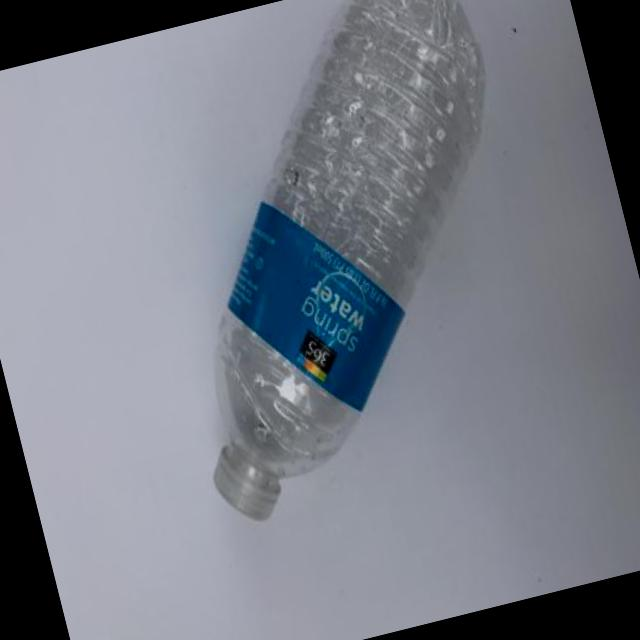Recycle: (104, 0, 585, 530)
